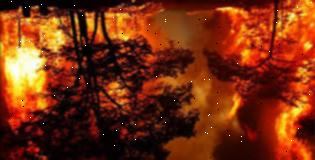fire: (0, 5, 154, 142), (197, 0, 315, 160)
